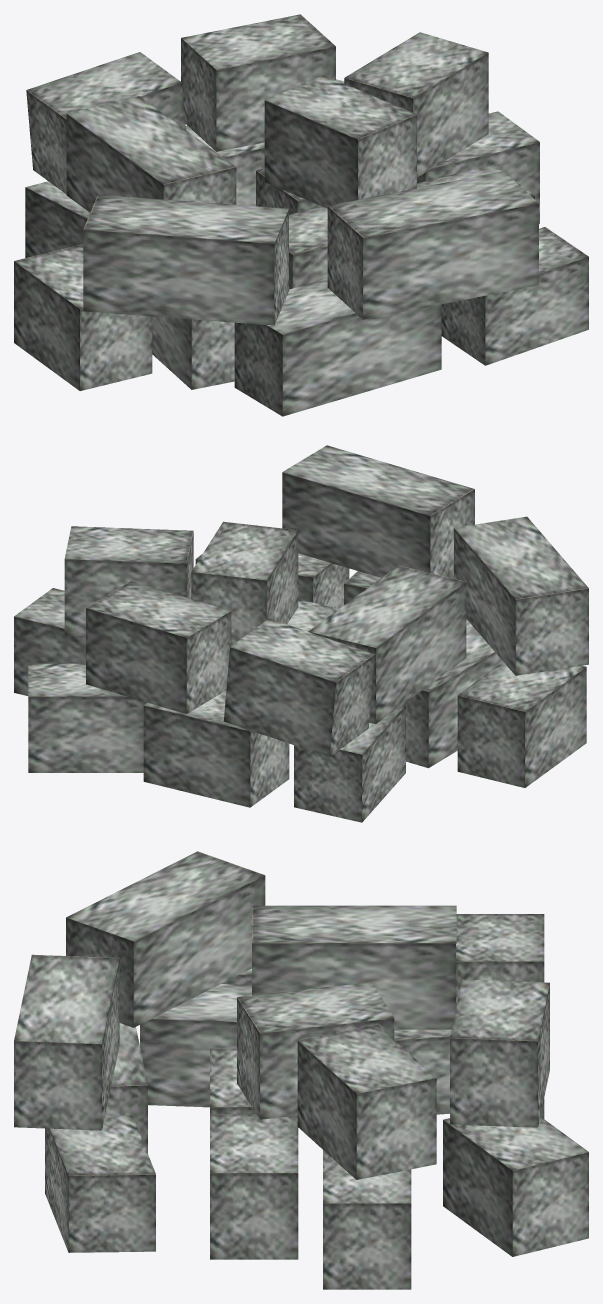
Rendered from treasure_stone_pile.glb.
3 renders of one model, top to bottom at view 1: azimuth 30°, elevation 25°; view 2: azimuth 150°, elevation 25°; view 3: azimuth 270°, elevation 25°, orthographic. The views are drawn at different scales.
Visible parts, largest first — view 1: treasure_stone_pile_part0; view 2: treasure_stone_pile_part0; view 3: treasure_stone_pile_part0.
Boxes of the visible parts, x1,y1,x2,y2 form: treasure_stone_pile_part0: (14,14,588,416); treasure_stone_pile_part0: (14,445,588,822); treasure_stone_pile_part0: (14,851,588,1289).
Bounding box in the file's own units: 2.46 × 0.7674 × 2.25.
Materials: 1 (1 with a texture image).
